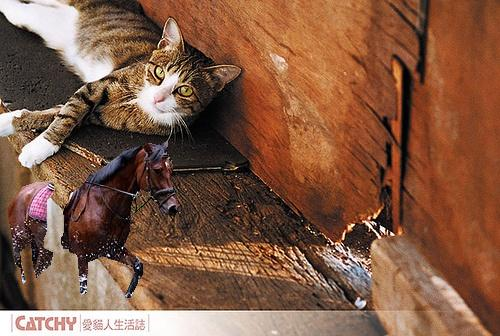tampered: (9, 141, 178, 298)
